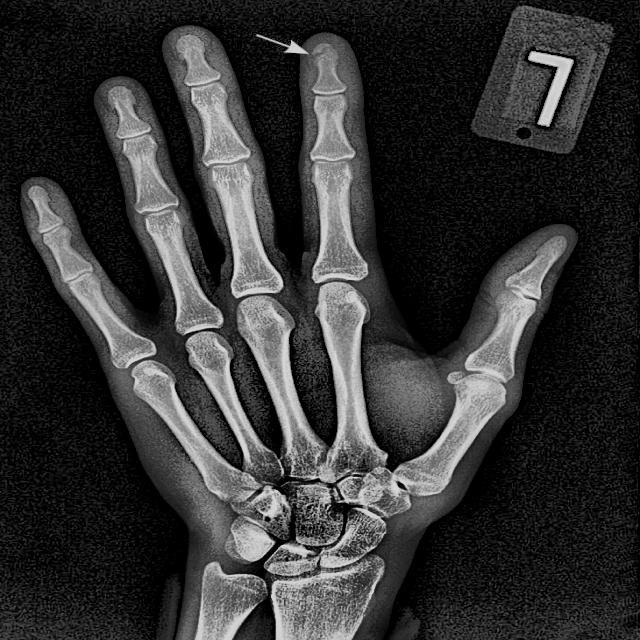fracture: (312, 42, 338, 66)
